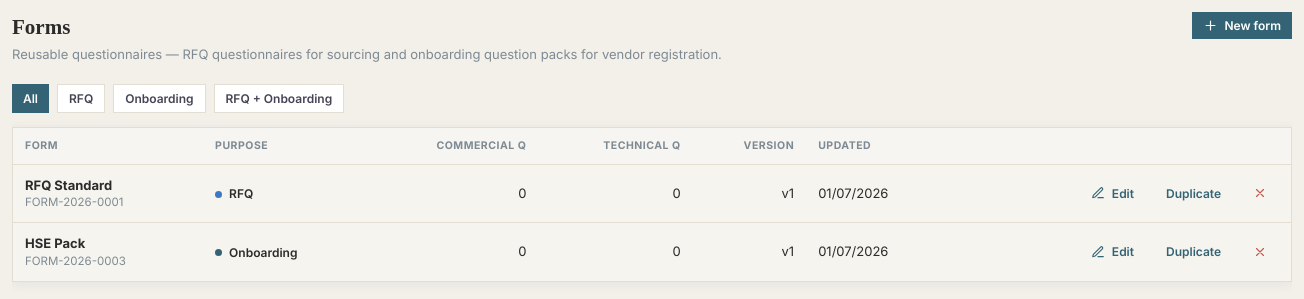
Test: Forms — Onboarding-purpose management (Slice E) › lists the Purpose and filters by it
Check: the text "HSE Pack" is shown, box [25, 235, 85, 251]
Check: the text "RFQ Standard" is shown, box [25, 176, 112, 192]
Click the button "Onboarding" at (159, 99), box [113, 84, 206, 113]
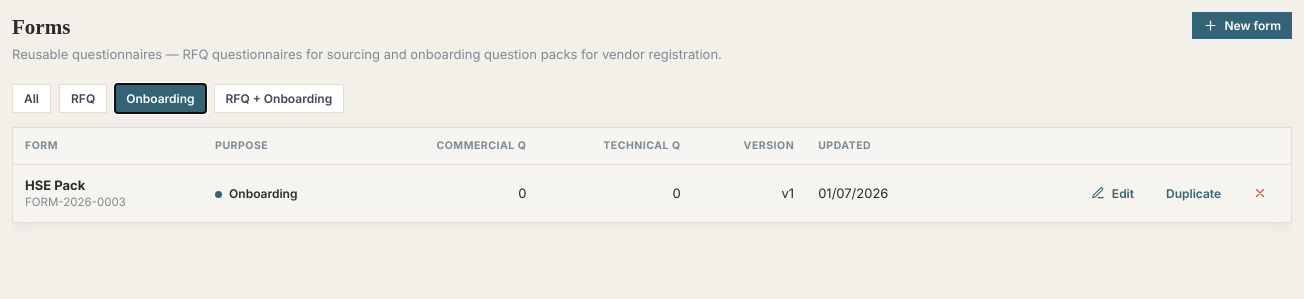
Check: the text "HSE Pack" is shown, box [25, 176, 85, 192]
Check: the text "RFQ Standard" is gone
